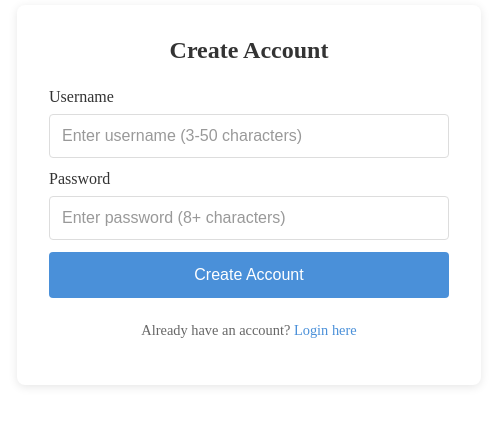
Test: RegisterForm › Client-side Validation › shows error for empty username
This screenshot has width=499, height=425.
Step 1. Type "validpass123" into the password field labelled "Password" → (249, 218), box left=49, top=196, right=449, bottom=240
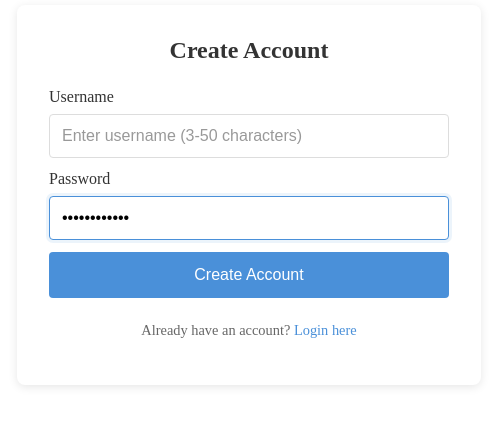
Step 2. Click the button "Create Account" → (249, 275), box left=49, top=252, right=449, bottom=298
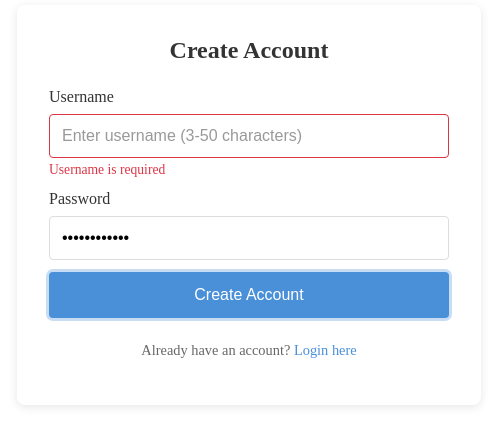
Now the text "Username is required" is shown, box left=49, top=162, right=165, bottom=177
